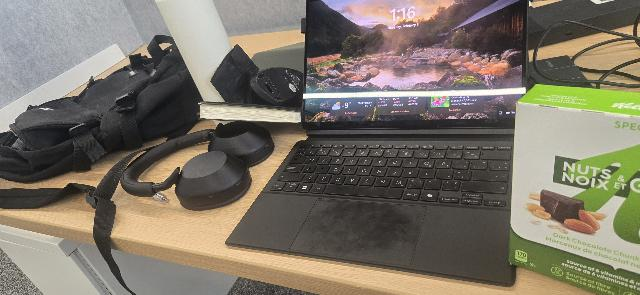Keyboard: (269, 141, 512, 208)
